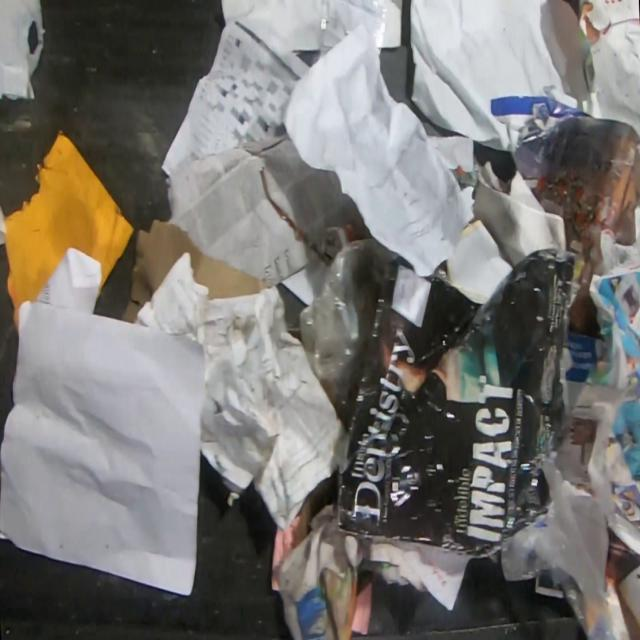cardboard: (119, 220, 276, 325)
soft_plastic: (499, 455, 618, 640), (298, 237, 382, 431), (311, 0, 394, 66)
